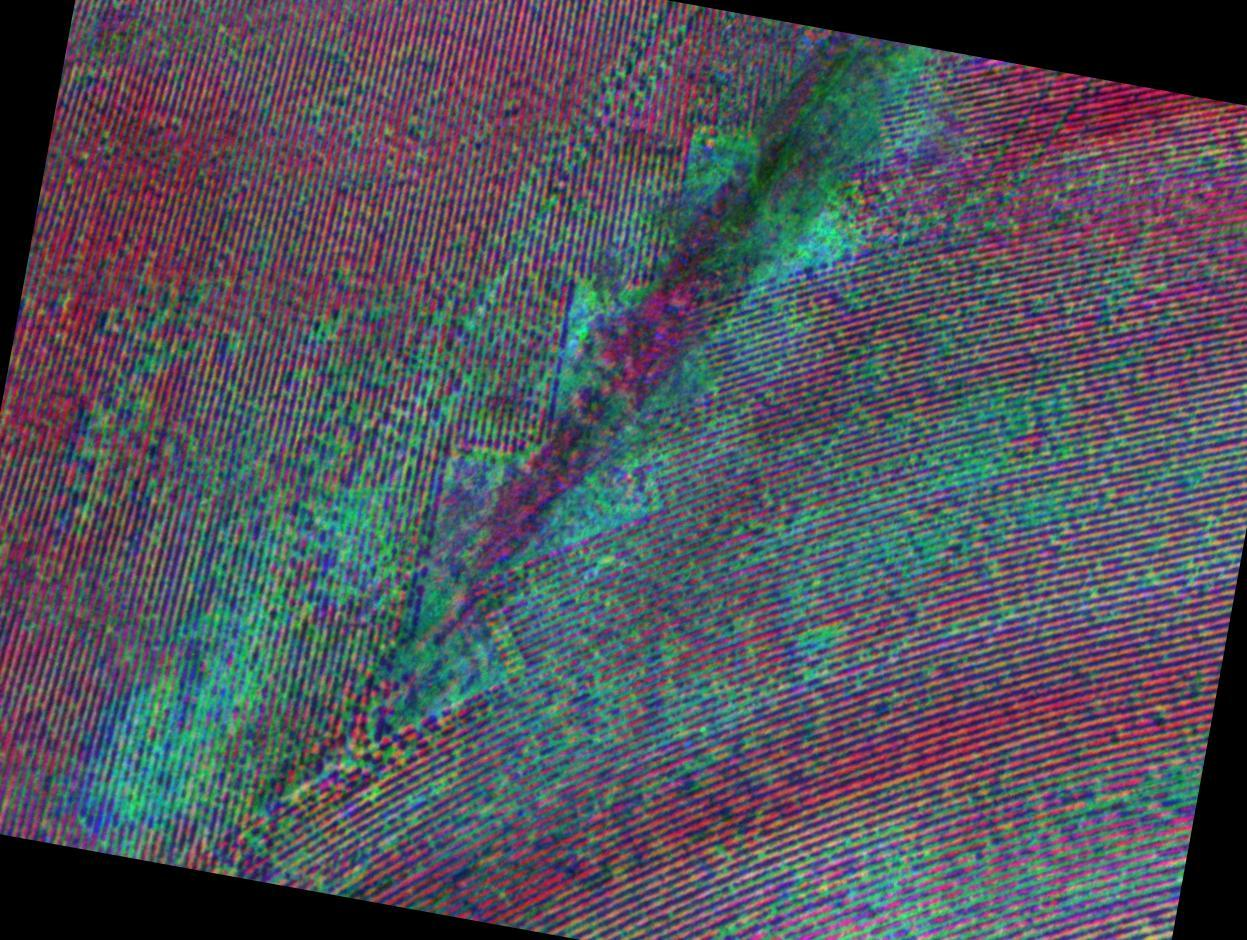dc: (101, 708, 197, 807), (868, 483, 955, 578), (776, 180, 849, 256), (958, 403, 1010, 456), (576, 480, 632, 527)
